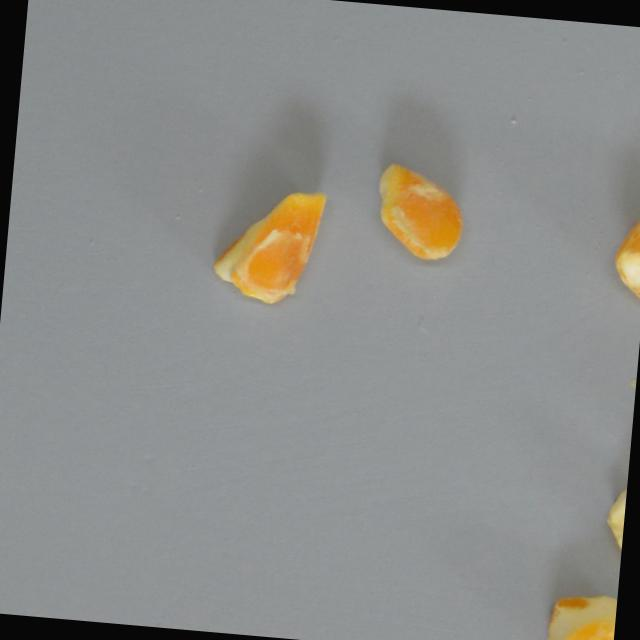estandar: (602, 480, 627, 565)
pelicula: (209, 179, 329, 307), (369, 159, 471, 262), (541, 588, 617, 640), (610, 187, 640, 302)
